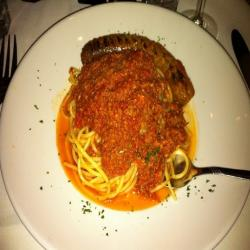bolonese_pasta: (59, 38, 199, 207)
